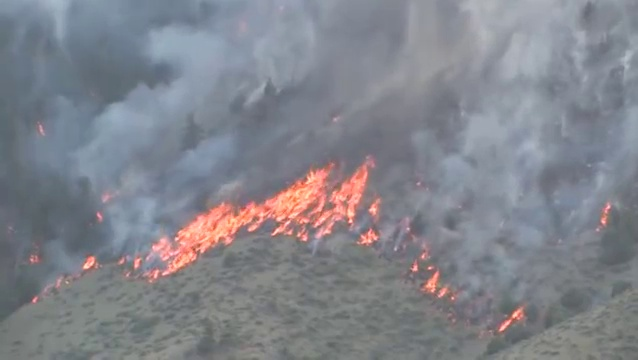fire: (151, 167, 378, 277), (427, 272, 437, 289), (85, 253, 94, 267)
